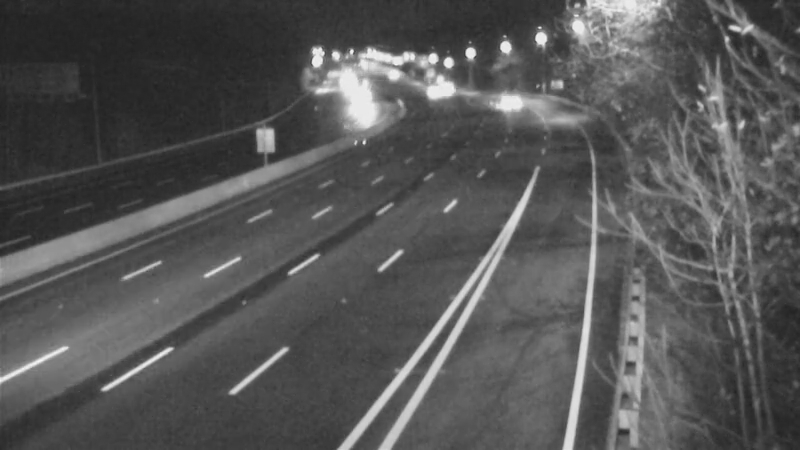vehicle: (406, 68, 456, 118), (485, 78, 535, 128)
